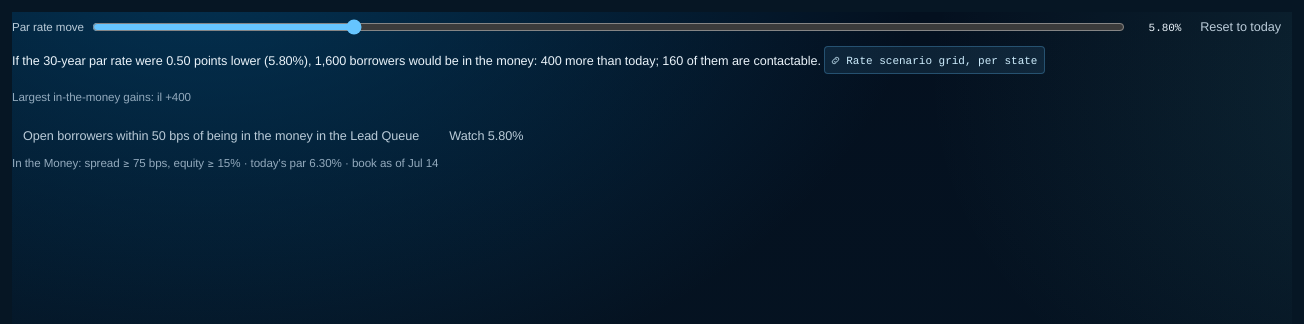
RateWatchControl › a failed save shows governed copy, never the server text (0)
Click the button "Watch 5.80%" at [486, 136], box [438,120,534,150]
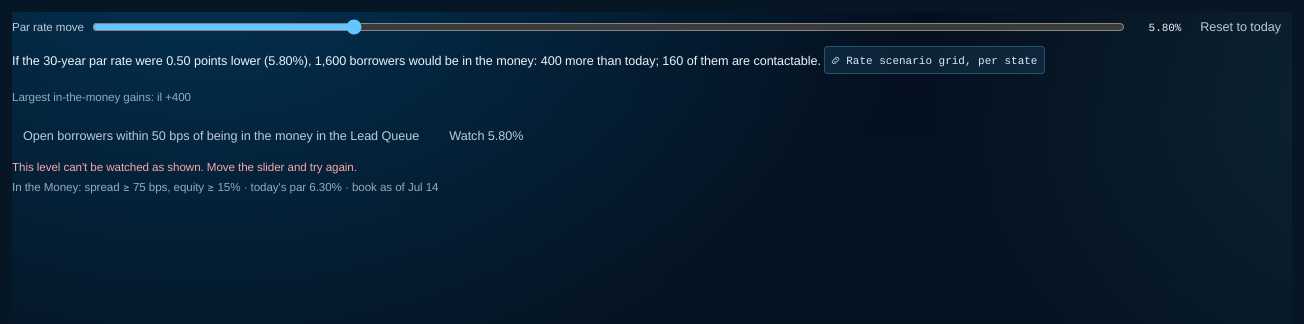
expect the message "This level can't be watched as shown. Move the slider and try again." is shown: met, box [12,160,357,174]
